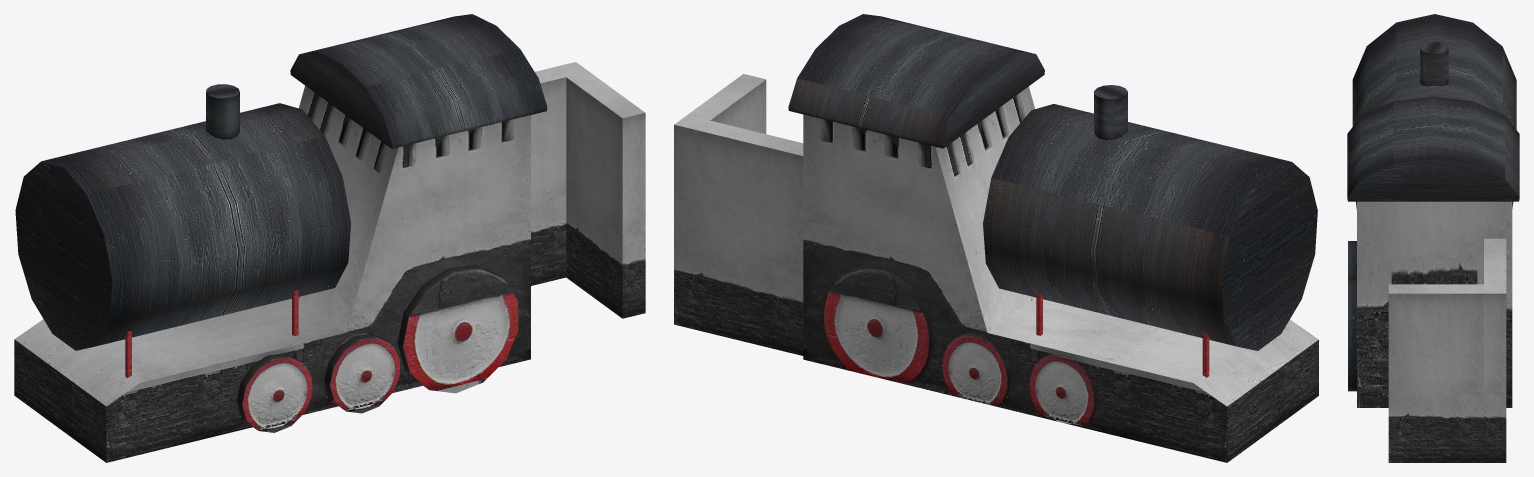
File: r254_vhodnoy_parovoz_ost.FBX
3 views of the same model, side by side, from view 1: azimuth 30°, elevation 25°; view 2: azimuth 150°, elevation 25°; view 3: azimuth 270°, elevation 25° (orthographic). The views are drawn at different scales.
Parts seen in each view (by area): view 1: r254_vhodnoy_parovoz_ost; view 2: r254_vhodnoy_parovoz_ost; view 3: r254_vhodnoy_parovoz_ost.
Boxes of the visible parts, x1,y1,x2,y2 form: r254_vhodnoy_parovoz_ost: (14, 14, 645, 462); r254_vhodnoy_parovoz_ost: (674, 14, 1318, 462); r254_vhodnoy_parovoz_ost: (1347, 14, 1519, 462).
Bounding box in the file's own units: 777 × 246 × 411.
